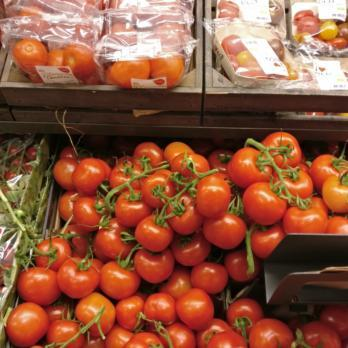Tomato: (52, 144, 240, 348), (244, 130, 348, 228)
